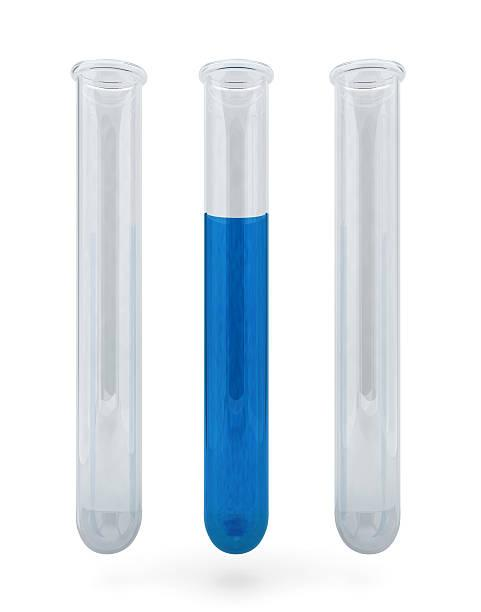Test tube: (316, 57, 426, 559), (189, 44, 286, 557), (67, 52, 150, 557)
